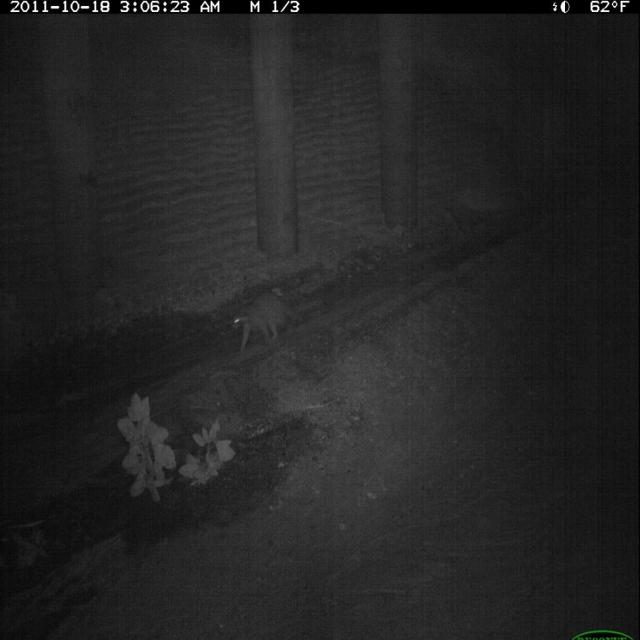raccoon: (228, 285, 307, 358)
